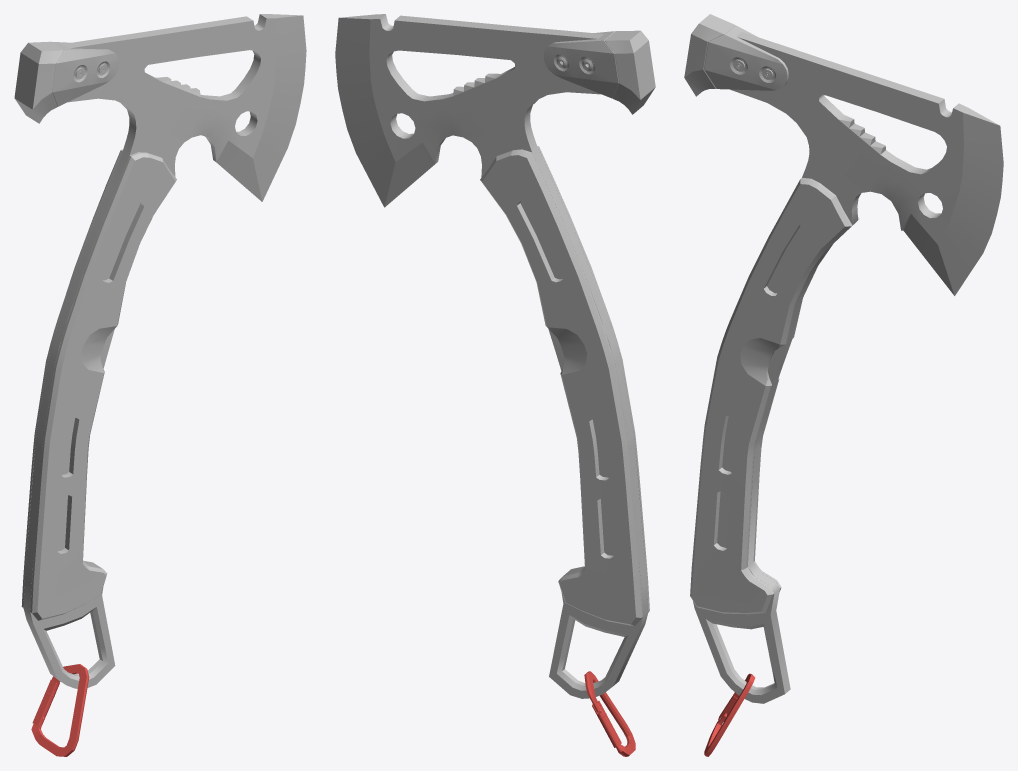
The model's file is projectile.glb.
3 views of the same model, side by side, from view 1: azimuth 30°, elevation 25°; view 2: azimuth 150°, elevation 25°; view 3: azimuth 330°, elevation 25° (orthographic). The views are drawn at different scales.
Parts seen in each view (by area): view 1: Corpo_Principale, Manico, Martello, Moschettone; view 2: Corpo_Principale, Manico, Martello, Moschettone; view 3: Corpo_Principale, Manico, Martello, Moschettone.
Boxes of the visible parts, x1=… form: Corpo_Principale: x1=23, y1=14, x2=306, y2=688; Manico: x1=21, y1=149, x2=176, y2=620; Martello: x1=14, y1=41, x2=119, y2=123; Moschettone: x1=31, y1=664, x2=89, y2=756; Corpo_Principale: x1=335, y1=14, x2=648, y2=698; Manico: x1=480, y1=146, x2=649, y2=626; Martello: x1=543, y1=30, x2=655, y2=114; Moschettone: x1=584, y1=671, x2=635, y2=756; Corpo_Principale: x1=693, y1=32, x2=1003, y2=703; Manico: x1=690, y1=177, x2=859, y2=614; Martello: x1=684, y1=14, x2=788, y2=96; Moschettone: x1=704, y1=673, x2=755, y2=756.
Size of the model in its own units: 10.05 by 23.02 by 1.71.
